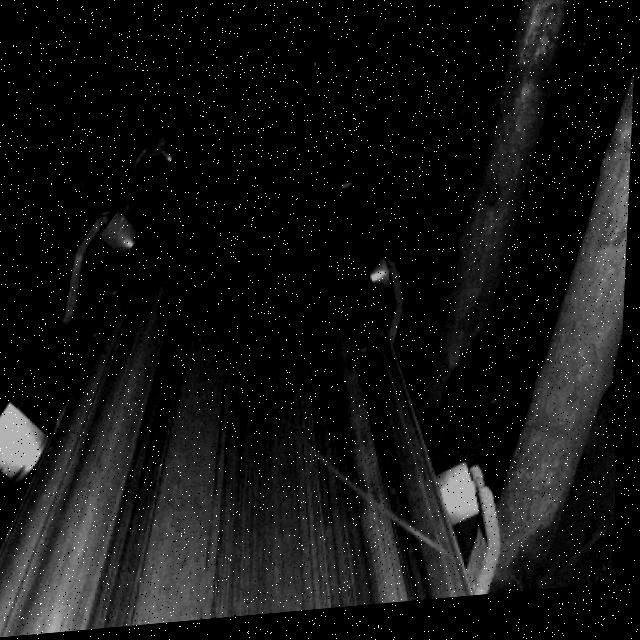bolt: (294, 437, 465, 580)
